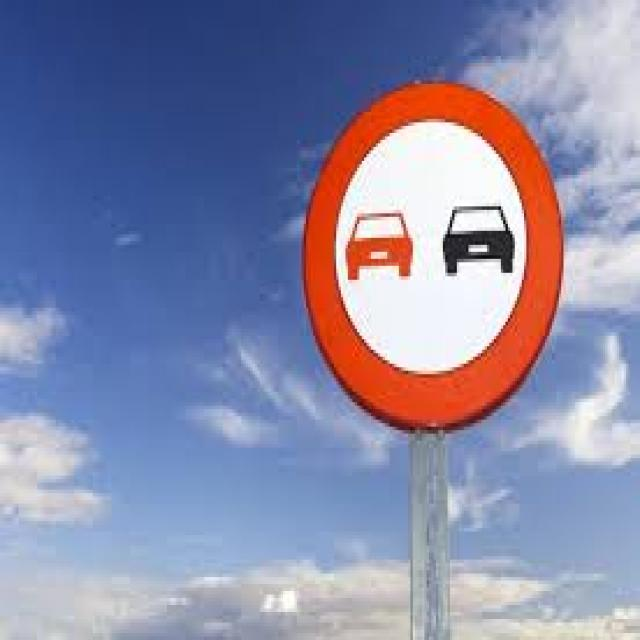no overtaking: (298, 76, 568, 434)
